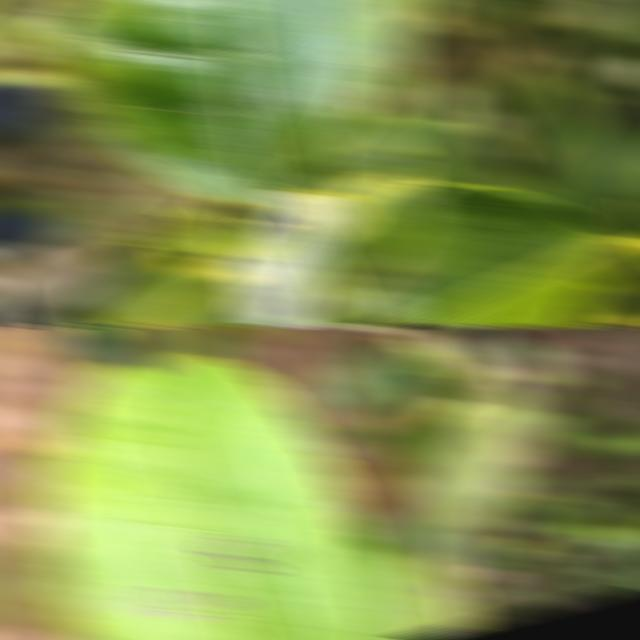Leaf: (38, 355, 387, 640), (41, 0, 394, 212), (398, 182, 640, 327), (398, 369, 544, 555), (530, 73, 633, 233), (398, 117, 550, 198), (398, 546, 481, 640), (323, 342, 420, 418), (350, 544, 420, 640), (354, 0, 420, 91), (357, 509, 420, 555), (182, 325, 243, 359)
